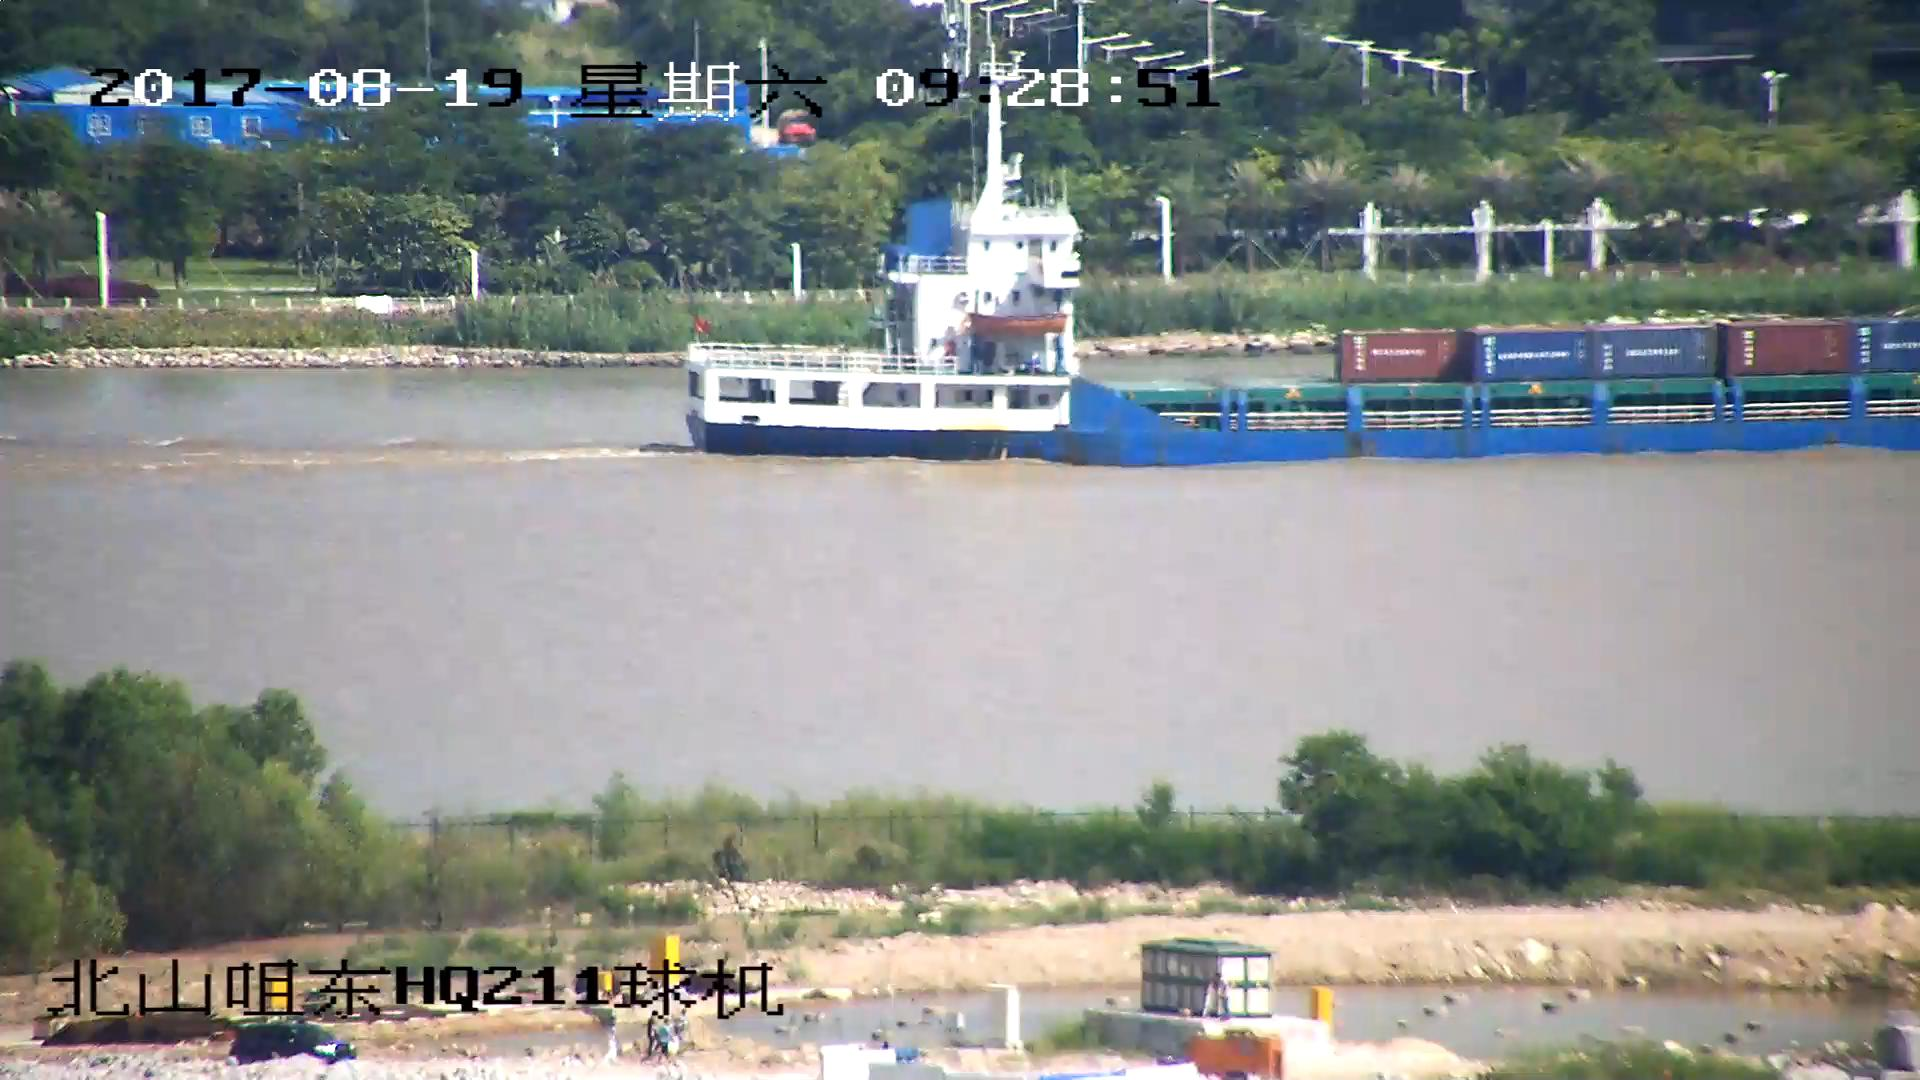general cargo ship: (688, 119, 1920, 468)
